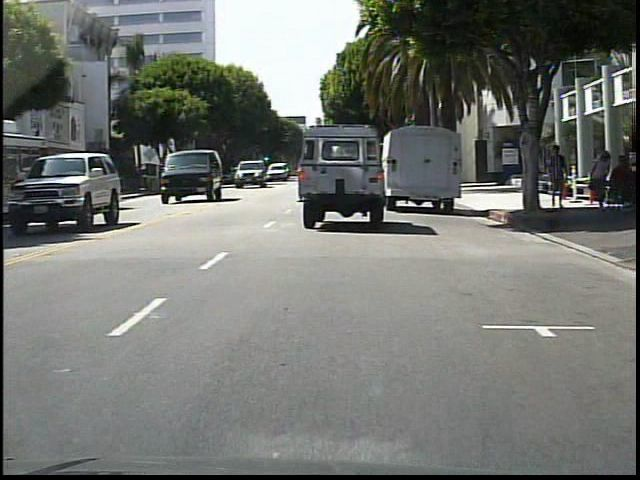person: (548, 141, 571, 210), (591, 149, 613, 210)
